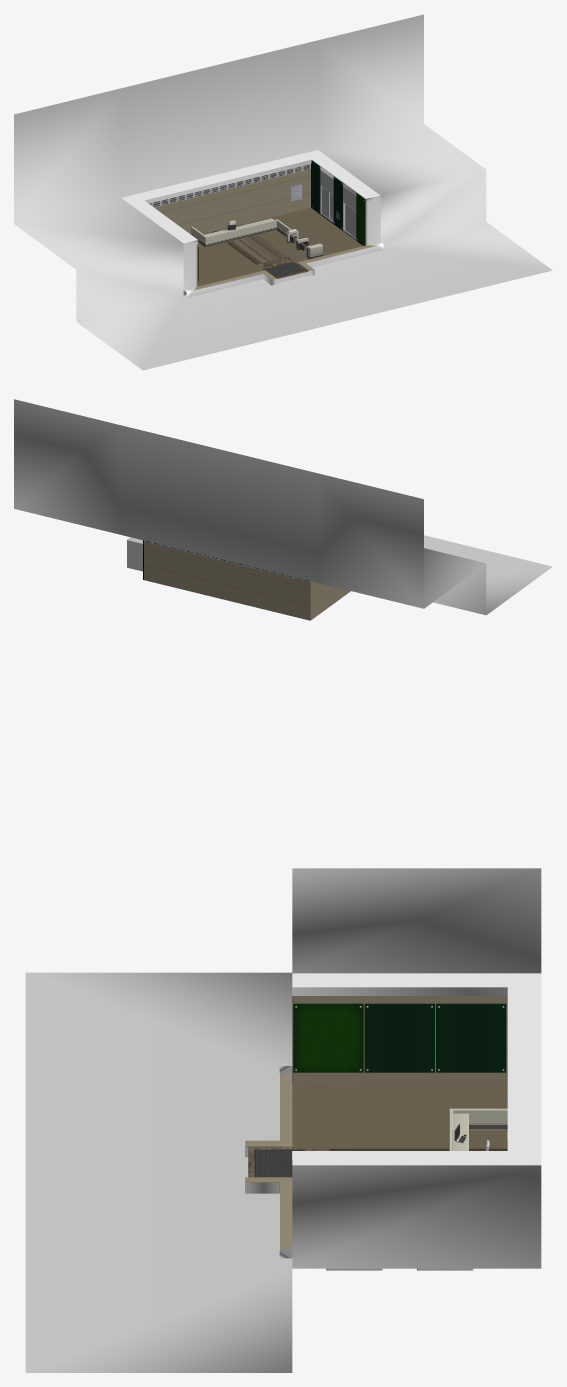
Rendered from a_com_building_a03.gltf.
3 views of the same model, one above another, from view 1: azimuth 30°, elevation 25°; view 2: azimuth 150°, elevation 25°; view 3: azimuth 270°, elevation 25° (orthographic). The views are drawn at different scales.
Visible parts, largest first — view 1: a_com_building_a03_outsideblank01_mesh_shape:a_com_building_, um_a_com_building_a03_model_a_com_building_a03_modelShape:a_ (×10), nomerge_outside_edge_shape:mat_texture_edge02, a_com_building_a03_outsideroof01_mesh_shape:a_com_building_a; view 2: a_com_building_a03_outsideblank01_mesh_shape:a_com_building_, um_a_com_building_a03_model_a_com_building_a03_modelShape:a_ (×4); view 3: a_com_building_a03_outsideblank01_mesh_shape:a_com_building_, um_a_com_building_a03_model_a_com_building_a03_modelShape:a_ (×7), a_com_building_a03_outsideroof01_mesh_shape:a_com_building_a, nomerge_outside_edge_shape:mat_texture_edge02.
Boxes of the visible parts, x1,y1,x2,y2 form: a_com_building_a03_outsideblank01_mesh_shape:a_com_building_: [14, 14, 552, 370]; um_a_com_building_a03_model_a_com_building_a03_modelShape:a_ (×10): [149, 160, 375, 295]; nomerge_outside_edge_shape:mat_texture_edge02: [144, 159, 383, 297]; a_com_building_a03_outsideroof01_mesh_shape:a_com_building_a: [122, 150, 379, 243]; a_com_building_a03_outsideblank01_mesh_shape:a_com_building_: [14, 399, 552, 615]; um_a_com_building_a03_model_a_com_building_a03_modelShape:a_ (×4): [127, 537, 350, 620]; a_com_building_a03_outsideblank01_mesh_shape:a_com_building_: [25, 868, 541, 1372]; um_a_com_building_a03_model_a_com_building_a03_modelShape:a_ (×7): [245, 987, 507, 1257]; a_com_building_a03_outsideroof01_mesh_shape:a_com_building_a: [292, 973, 541, 1165]; nomerge_outside_edge_shape:mat_texture_edge02: [245, 987, 507, 1258].
Bounding box in the file's own units: 38.42 × 14.48 × 20.91.
21 materials, 18 textured.
